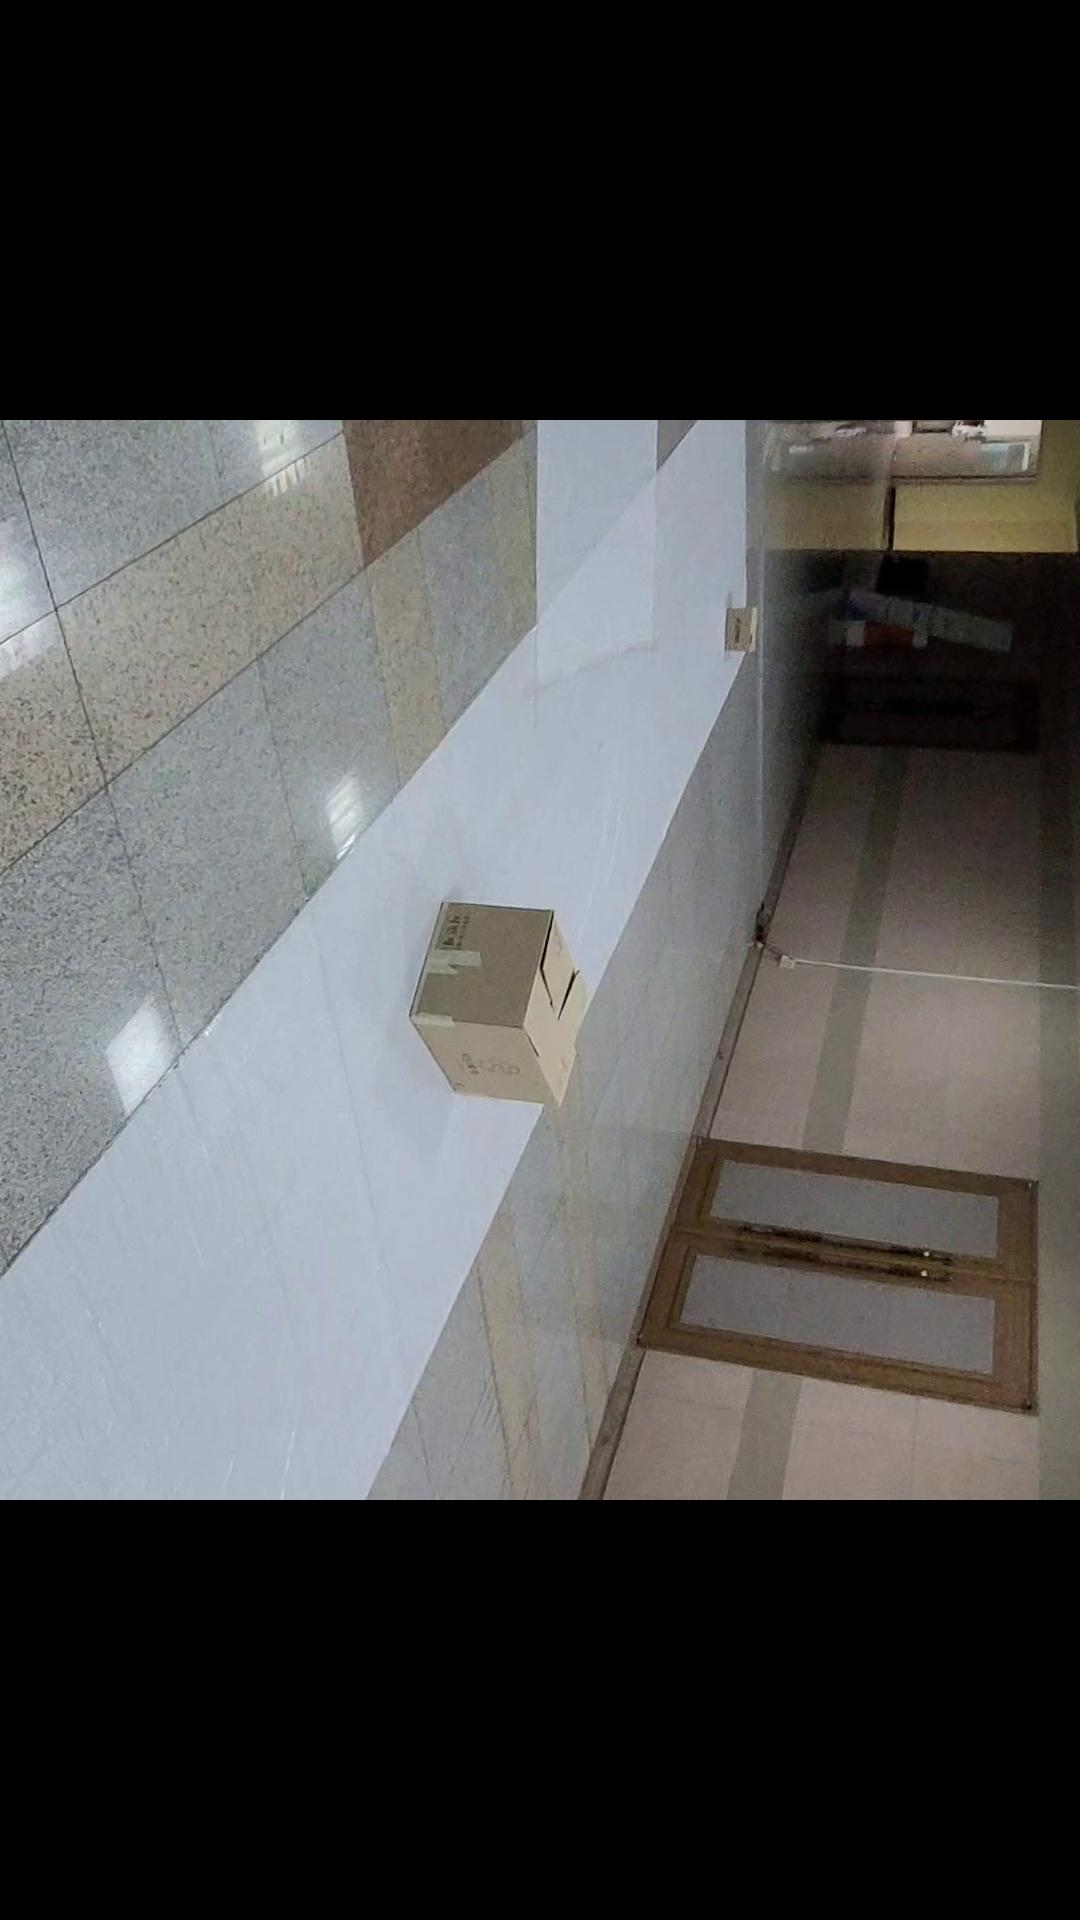Box: (385, 806, 603, 1147), (707, 551, 777, 684)
